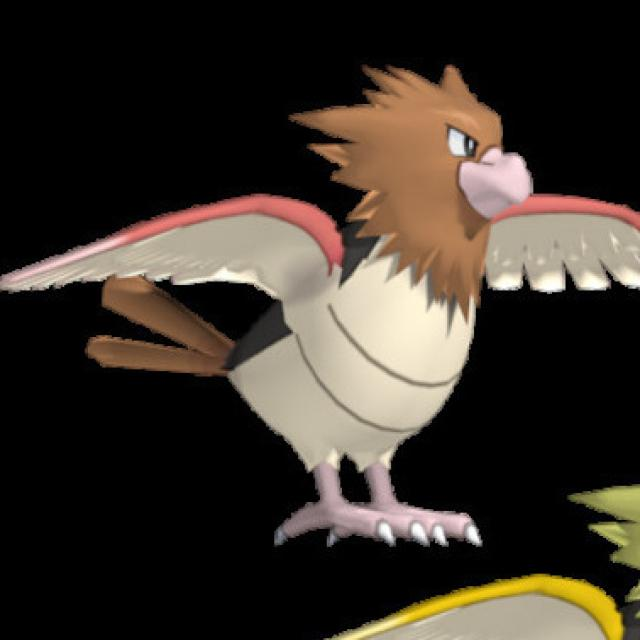Spearow: (0, 72, 614, 550)
